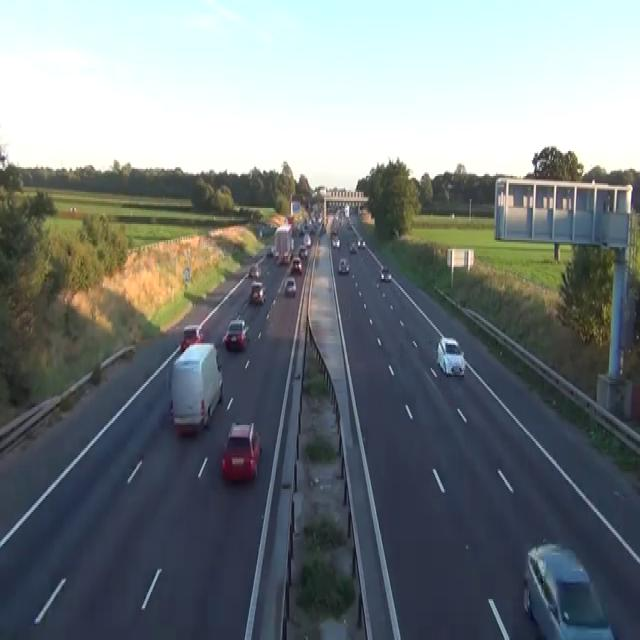Car: (523, 539, 615, 638), (221, 421, 261, 482), (436, 336, 465, 377), (223, 318, 249, 350), (179, 324, 204, 352), (249, 281, 266, 304), (284, 275, 296, 297), (259, 224, 275, 236), (292, 256, 302, 274), (380, 265, 391, 281), (338, 258, 349, 274), (248, 263, 260, 277), (298, 245, 307, 258), (303, 233, 311, 247), (282, 249, 290, 263), (266, 244, 274, 256), (349, 240, 357, 252), (331, 237, 340, 247), (357, 238, 365, 249), (273, 249, 279, 261), (328, 202, 335, 212), (392, 228, 399, 236), (348, 220, 353, 230), (331, 226, 337, 234), (291, 237, 294, 250), (357, 238, 361, 247), (361, 238, 365, 247), (259, 228, 263, 236)
Truck: (169, 342, 223, 436), (272, 224, 293, 265)
